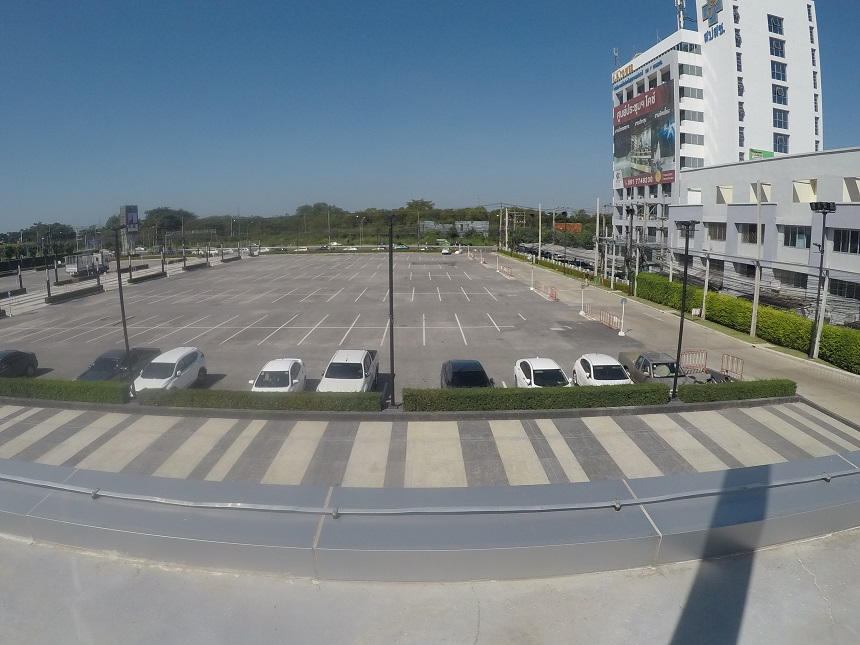busy: (635, 347, 678, 380), (570, 356, 619, 381), (138, 361, 183, 388), (445, 357, 485, 384), (510, 358, 554, 382), (326, 364, 370, 387), (258, 367, 304, 388), (90, 357, 131, 379), (2, 351, 27, 375)
